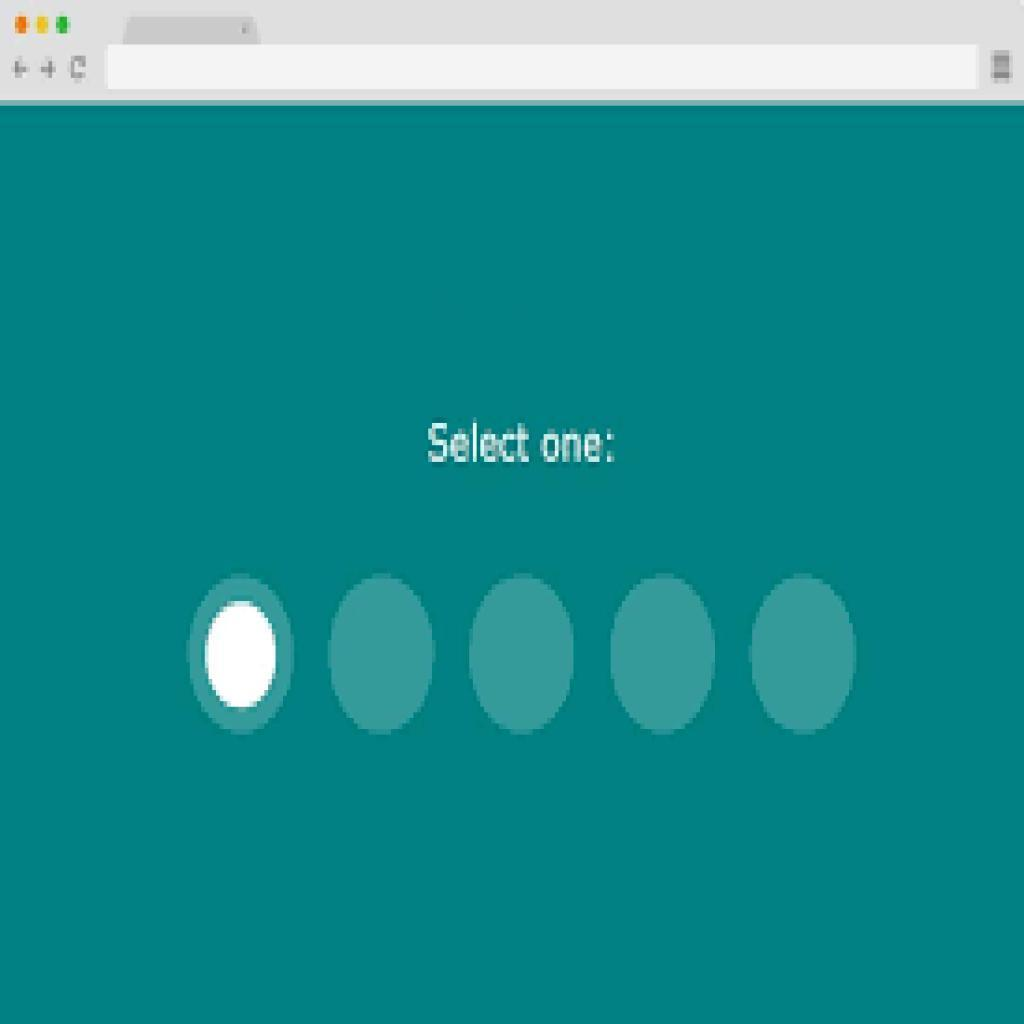label: (429, 417, 618, 475)
radio: (745, 571, 859, 736), (606, 573, 718, 740), (468, 577, 579, 740), (329, 574, 438, 739), (193, 574, 294, 744)
